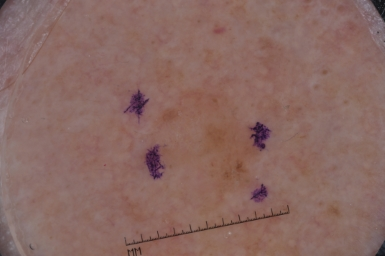seborrheic keratosis: (173, 85, 249, 179)
